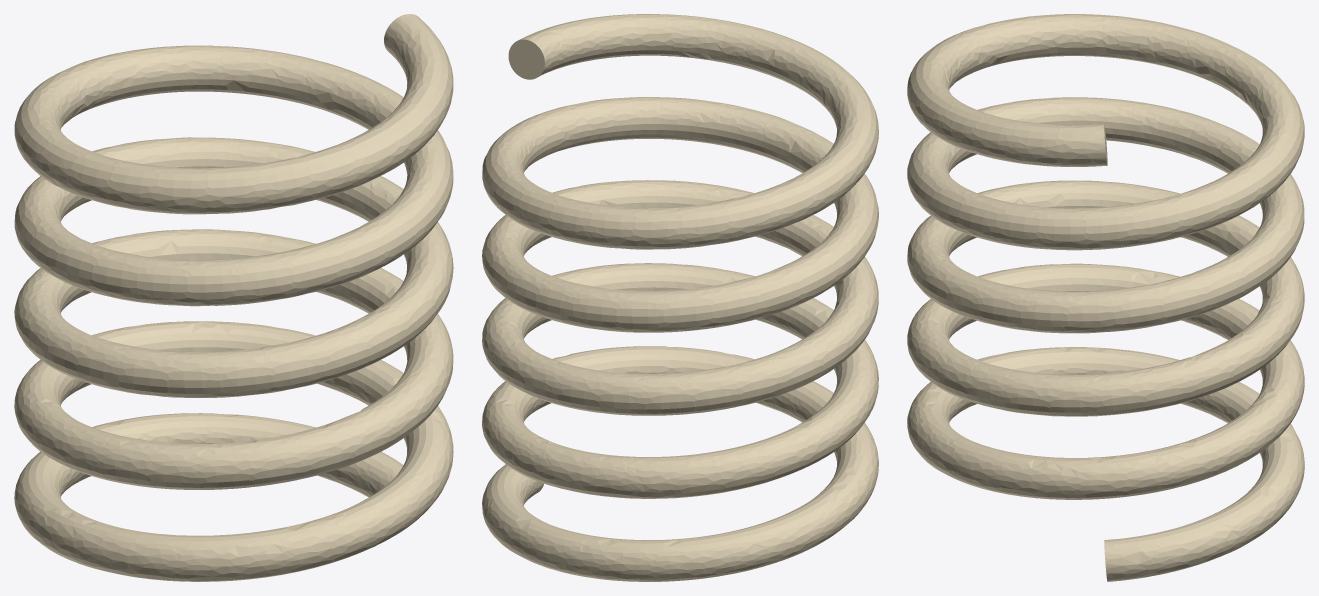
The model's file is lifter-plunger-spring.glb.
3 views of the same model, side by side, from view 1: azimuth 30°, elevation 25°; view 2: azimuth 150°, elevation 25°; view 3: azimuth 270°, elevation 25° (orthographic). The views are drawn at different scales.
Parts seen in each view (by area): view 1: world; view 2: world; view 3: world.
Boxes of the visible parts, x1,y1,x2,y2 form: world: (14, 14, 453, 581); world: (482, 14, 878, 581); world: (907, 14, 1304, 581).
Bounding box in the file's own units: 0.0123 × 0.0155 × 0.0123.
